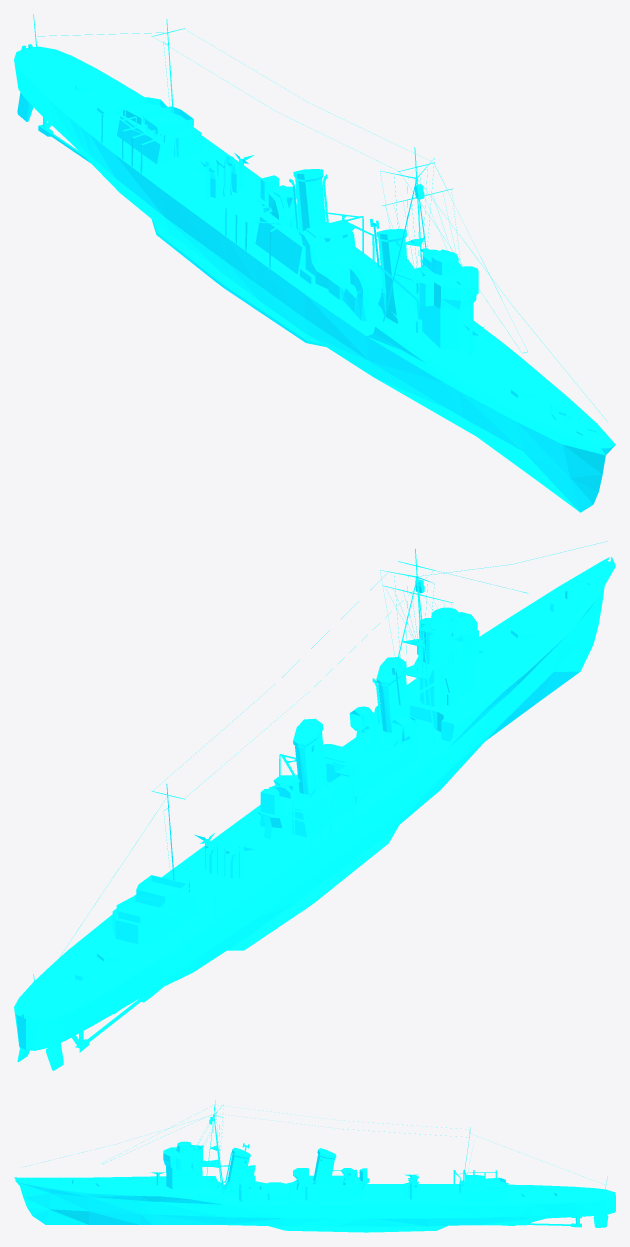
File: Fubuki.glb
3 views of the same model, one above another, from view 1: azimuth 30°, elevation 25°; view 2: azimuth 150°, elevation 25°; view 3: azimuth 270°, elevation 25° (orthographic). The views are drawn at different scales.
Size of the model in its own units: 0.7051 by 1.82 by 7.92.
